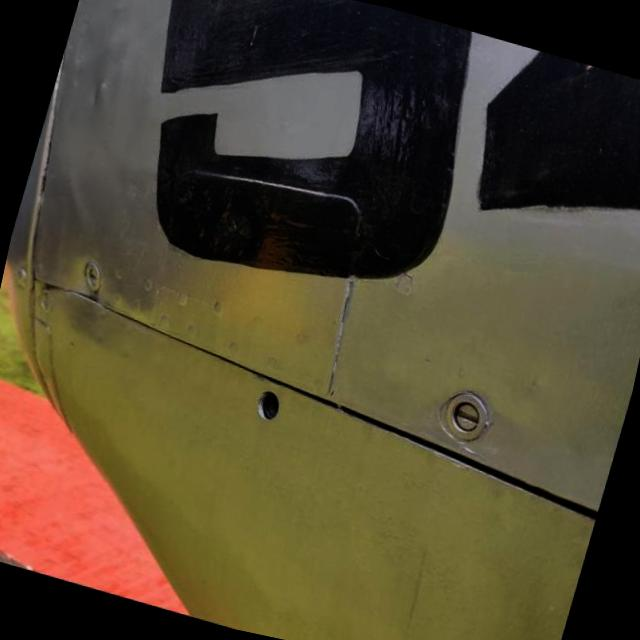Missing Fastener: (256, 389, 282, 422)
dent: (24, 272, 104, 325)
